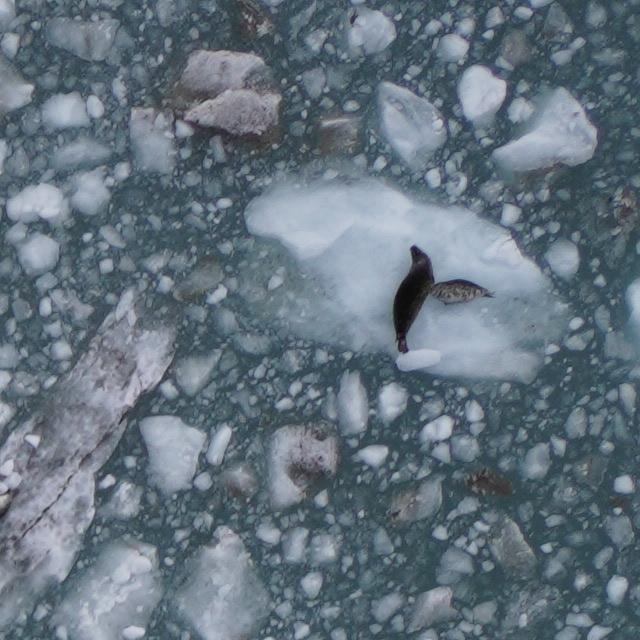seal: (390, 242, 438, 356), (428, 278, 499, 309)
